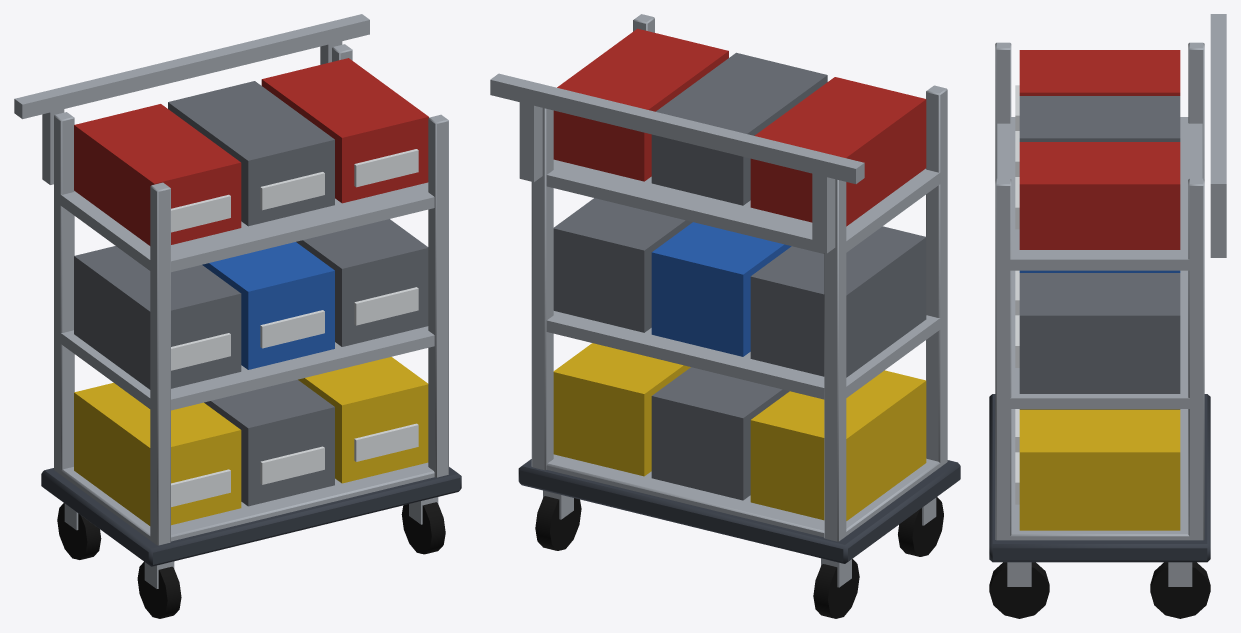
Rendered from storagebin_bin_trolley_floor.glb.
3 renders of one model, left to right at view 1: azimuth 30°, elevation 25°; view 2: azimuth 150°, elevation 25°; view 3: azimuth 270°, elevation 25°, orthographic. The views are drawn at different scales.
Visible parts, largest first — view 1: storagebin_bin_trolley_floor; view 2: storagebin_bin_trolley_floor; view 3: storagebin_bin_trolley_floor.
Part boxes in pixels (<box>): storagebin_bin_trolley_floor: <box>14,14,461,618</box>; storagebin_bin_trolley_floor: <box>490,14,960,618</box>; storagebin_bin_trolley_floor: <box>989,14,1226,618</box>.
Bounding box in the file's own units: 1 × 1.24 × 0.59.
